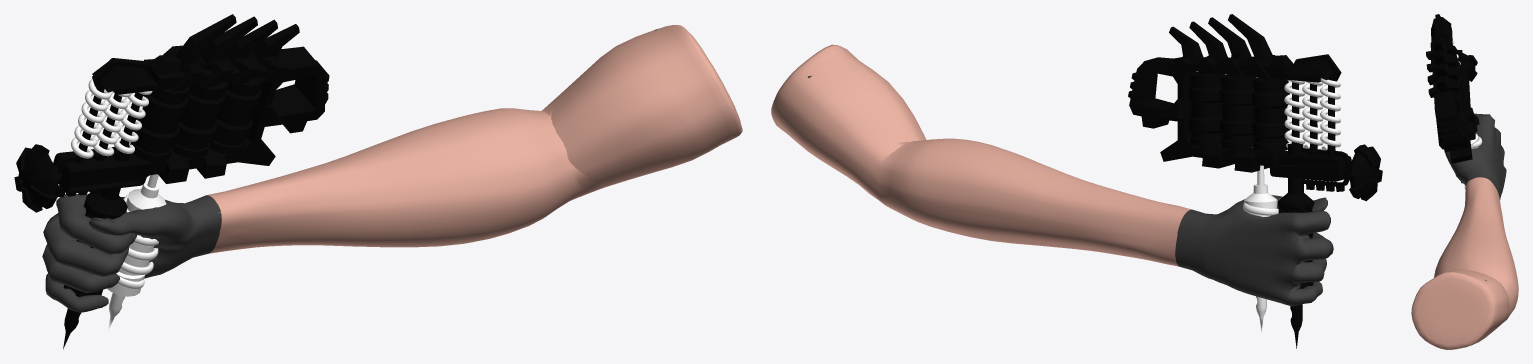
Rendered from npc_Tatgun07.fbx.
3 views of the same model, side by side, from view 1: azimuth 30°, elevation 25°; view 2: azimuth 150°, elevation 25°; view 3: azimuth 270°, elevation 25° (orthographic). The views are drawn at different scales.
Parts seen in each view (by area): view 1: tatgun07; view 2: tatgun07; view 3: tatgun07.
Boxes of the visible parts, x1,y1,x2,y2 form: tatgun07: (14,14,742,349); tatgun07: (771,14,1382,348); tatgun07: (1411,14,1518,349).
Bounding box in the file's own units: 435 × 199 × 90.94.
Materials: 2 (1 with a texture image).
